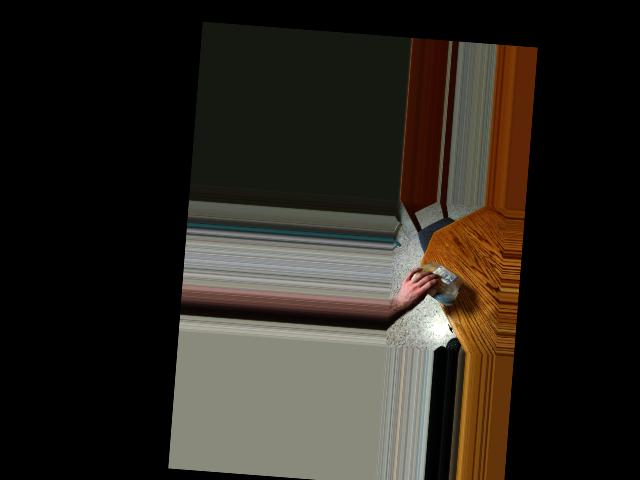cheese: (417, 263, 459, 294)
